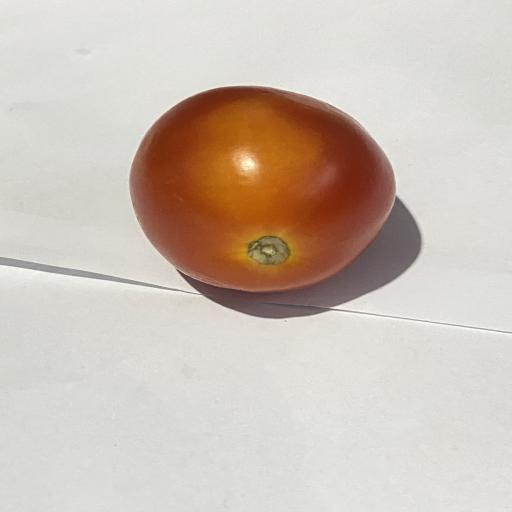ripe: (130, 86, 395, 292)
